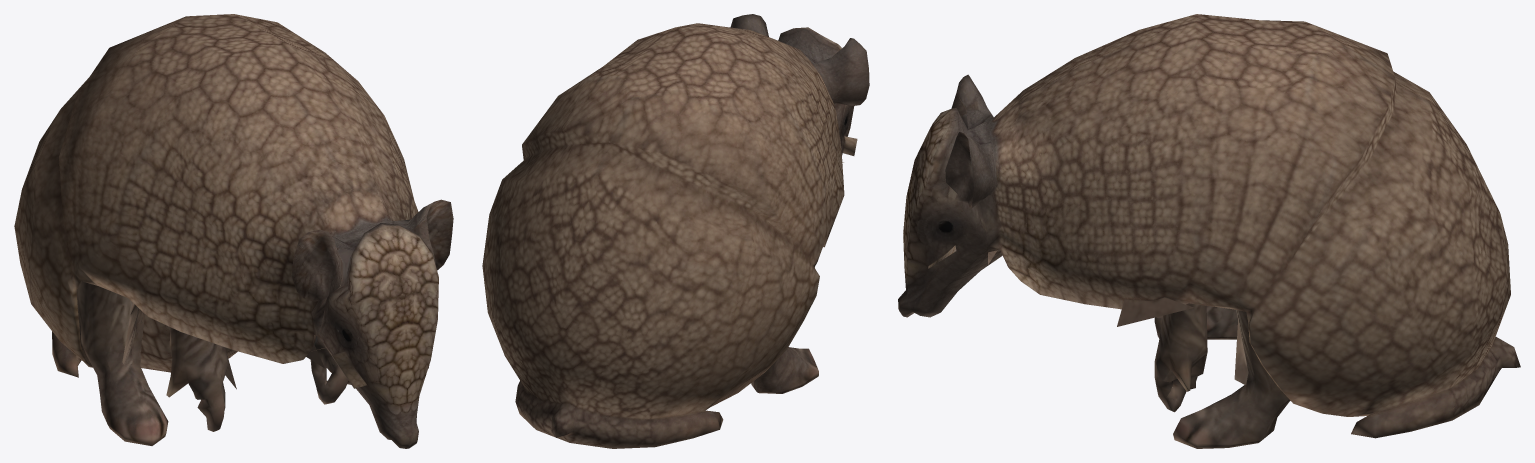
The model's file is tatu_bola_do_nordeste_med.glb.
The picture shows the model from 3 angles, left to right: view 1: azimuth 30°, elevation 25°; view 2: azimuth 150°, elevation 25°; view 3: azimuth 270°, elevation 25°; orthographic projection. The views are drawn at different scales.
Size of the model in its own units: 0.5786 by 0.6099 by 0.958.
1 material, 1 textured.
